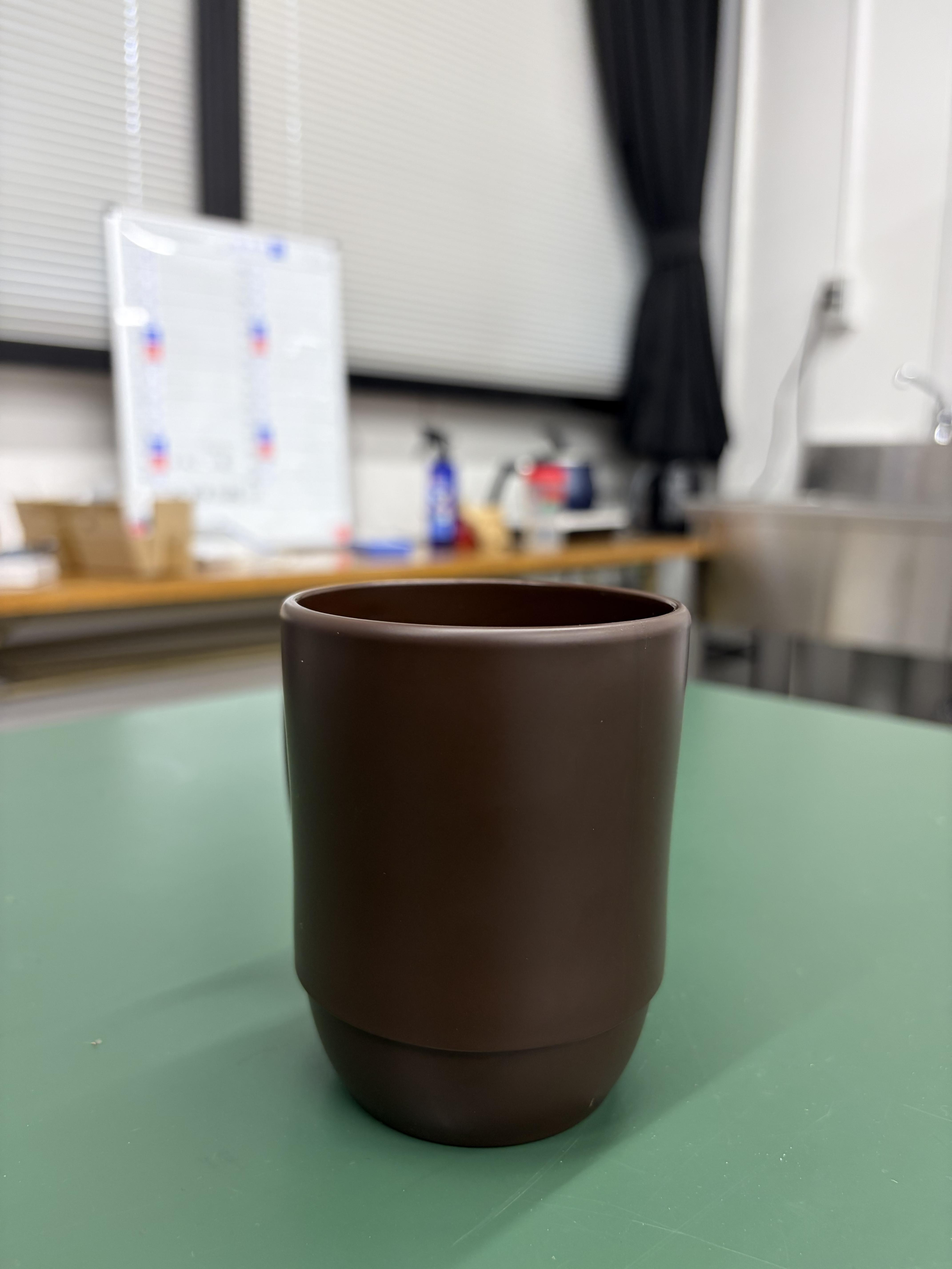mug-real100-3d100: (280, 579, 690, 1147)
